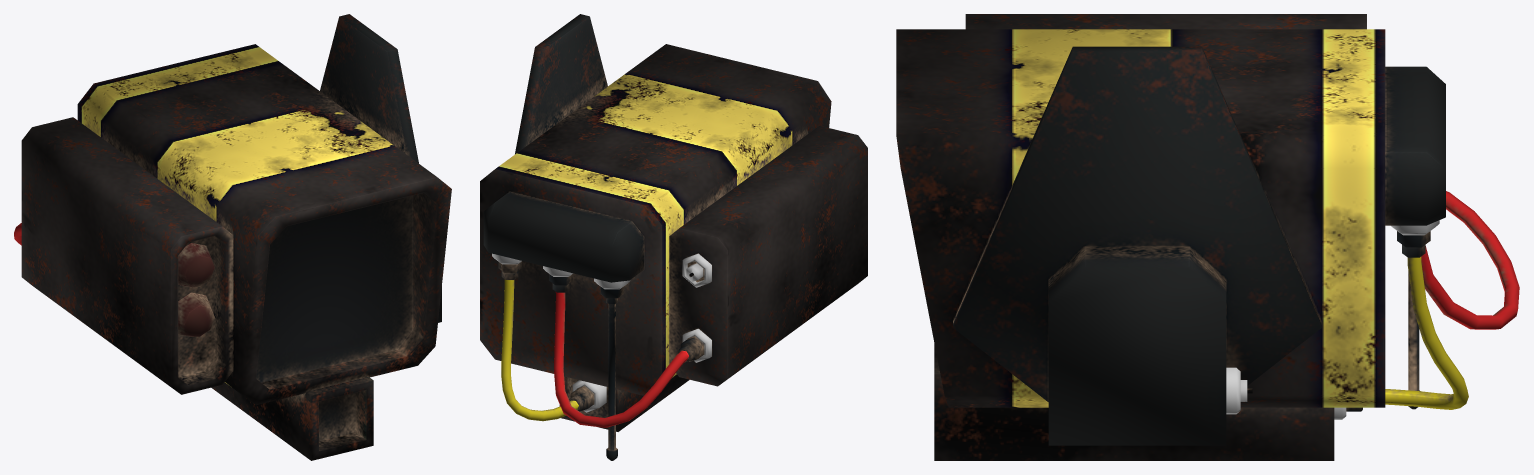
Rendered from Small Flying_Art Style A.fbx.
The picture shows the model from 3 angles, left to right: view 1: azimuth 30°, elevation 25°; view 2: azimuth 150°, elevation 25°; view 3: azimuth 270°, elevation 25°; orthographic projection. The views are drawn at different scales.
Parts seen in each view (by area): view 1: Small Flying_Lo Res; view 2: Small Flying_Lo Res; view 3: Small Flying_Lo Res.
Boxes of the visible parts, box(x1,y1,x2,y2) form: Small Flying_Lo Res: box(14, 14, 451, 460); Small Flying_Lo Res: box(480, 14, 867, 460); Small Flying_Lo Res: box(896, 14, 1519, 460).
Bounding box in the file's own units: 28.37 × 37.76 × 30.78.
1 material, 1 textured.
